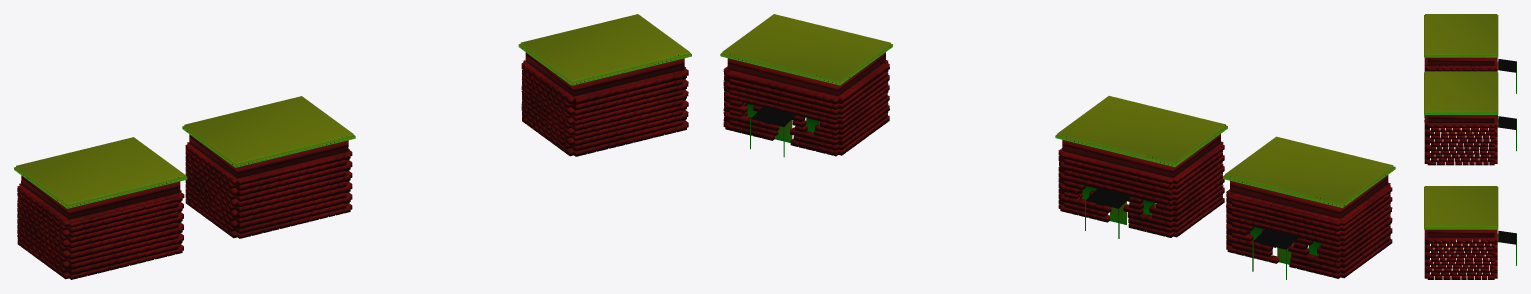
Rendered from quellan_houses_s.glb.
3 renders of one model, left to right at view 1: azimuth 30°, elevation 25°; view 2: azimuth 150°, elevation 25°; view 3: azimuth 270°, elevation 25°, orthographic. The views are drawn at different scales.
Parts seen in each view (by area): view 1: quellan_houses_s; view 2: quellan_houses_s; view 3: quellan_houses_s.
Boxes of the visible parts, left/top/right/bottom form: quellan_houses_s: left=14, top=14, right=691, bottom=279; quellan_houses_s: left=720, top=14, right=1395, bottom=279; quellan_houses_s: left=1424, top=14, right=1516, bottom=279.
Size of what is drawn, in the model's own units: 44.57 by 5.28 by 8.22.
